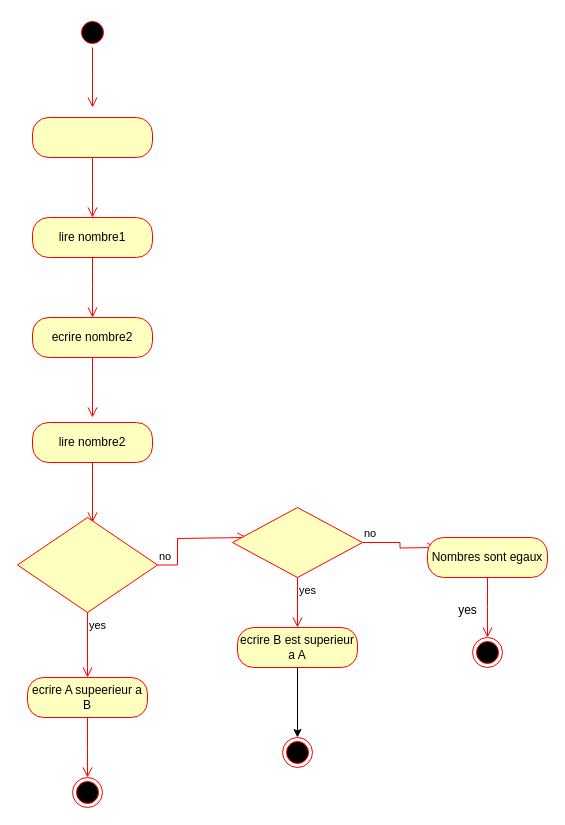
This 565x825 diagram has some shape labels left out. Here are the shapes that lost their labels. From the top down, the box of each, then its label:
(32, 116, 152, 158): ecrire nombre1
(232, 506, 362, 578): B>A
(16, 516, 158, 612): A>B
